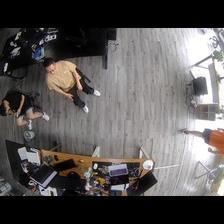normal: (43, 58, 98, 112), (1, 92, 48, 130), (181, 121, 224, 154)
